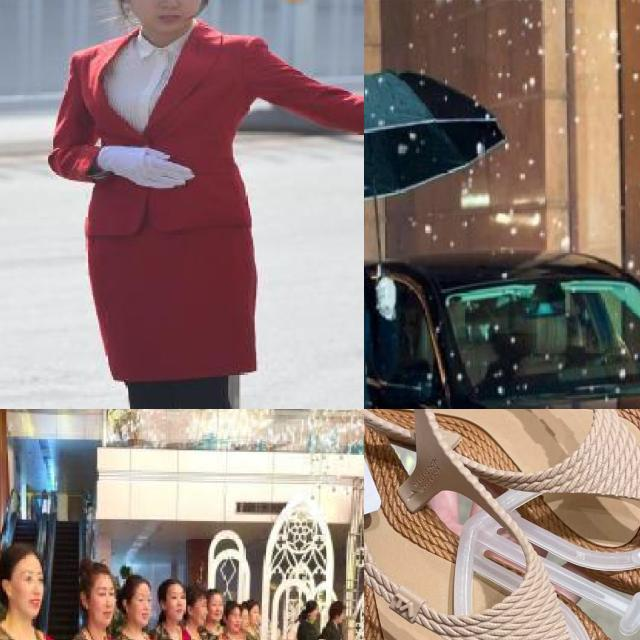Sandals: (364, 409, 640, 640)
face_nomask: (125, 0, 203, 37), (10, 564, 50, 612), (85, 584, 116, 627), (125, 589, 157, 630), (165, 590, 185, 623), (191, 602, 211, 626), (210, 596, 227, 622)
hand_glove: (101, 143, 196, 190), (375, 270, 396, 323)
head_nohelmet: (0, 542, 42, 568), (77, 561, 113, 583), (120, 570, 150, 594), (160, 576, 182, 594), (188, 583, 208, 598), (208, 590, 224, 598)
person: (57, 0, 336, 409), (95, 537, 166, 640), (65, 545, 126, 640), (156, 575, 202, 640)
